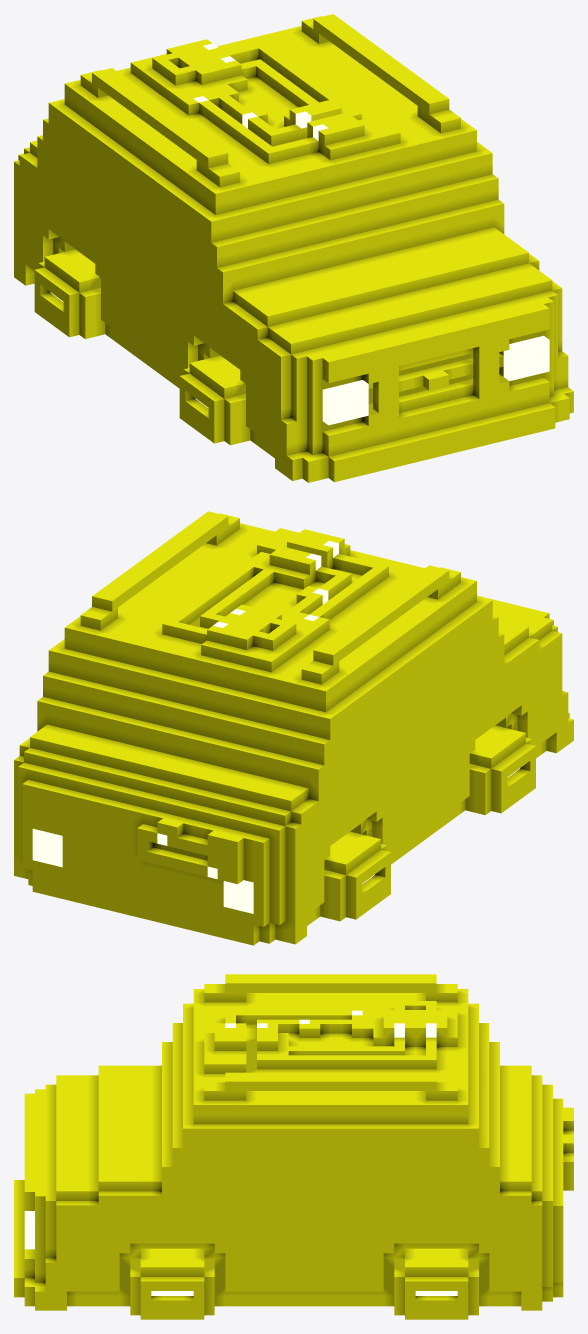
The model's file is Car1.glb.
The picture shows the model from 3 angles, top to bottom: view 1: azimuth 30°, elevation 25°; view 2: azimuth 150°, elevation 25°; view 3: azimuth 270°, elevation 25°; orthographic projection. The views are drawn at different scales.
Parts seen in each view (by area): view 1: Car1_Shell, Car1; view 2: Car1_Shell, Car1; view 3: Car1_Shell, Car1.
Boxes of the visible parts, <box> form: Car1_Shell: <box>14,14,573,482</box>; Car1: <box>34,249,250,445</box>; Car1_Shell: <box>14,511,573,945</box>; Car1: <box>320,725,535,921</box>; Car1_Shell: <box>14,974,573,1310</box>; Car1: <box>130,1248,478,1319</box>.
Bounding box in the file's own units: 1.6 × 1.15 × 2.65.
